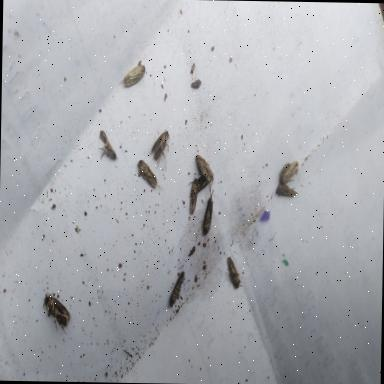pbw: (42, 292, 70, 334), (136, 158, 164, 192), (152, 128, 170, 172), (202, 188, 216, 236), (98, 129, 119, 161), (118, 63, 146, 86), (170, 270, 185, 307), (224, 255, 240, 289), (194, 153, 214, 180), (195, 167, 215, 190), (188, 177, 198, 215), (281, 160, 298, 182), (276, 184, 298, 196), (190, 78, 201, 88)
